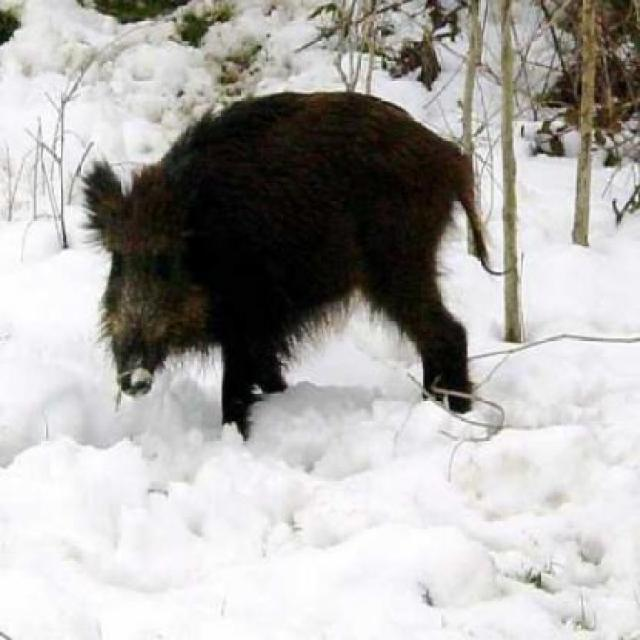pig: (56, 71, 507, 426)
